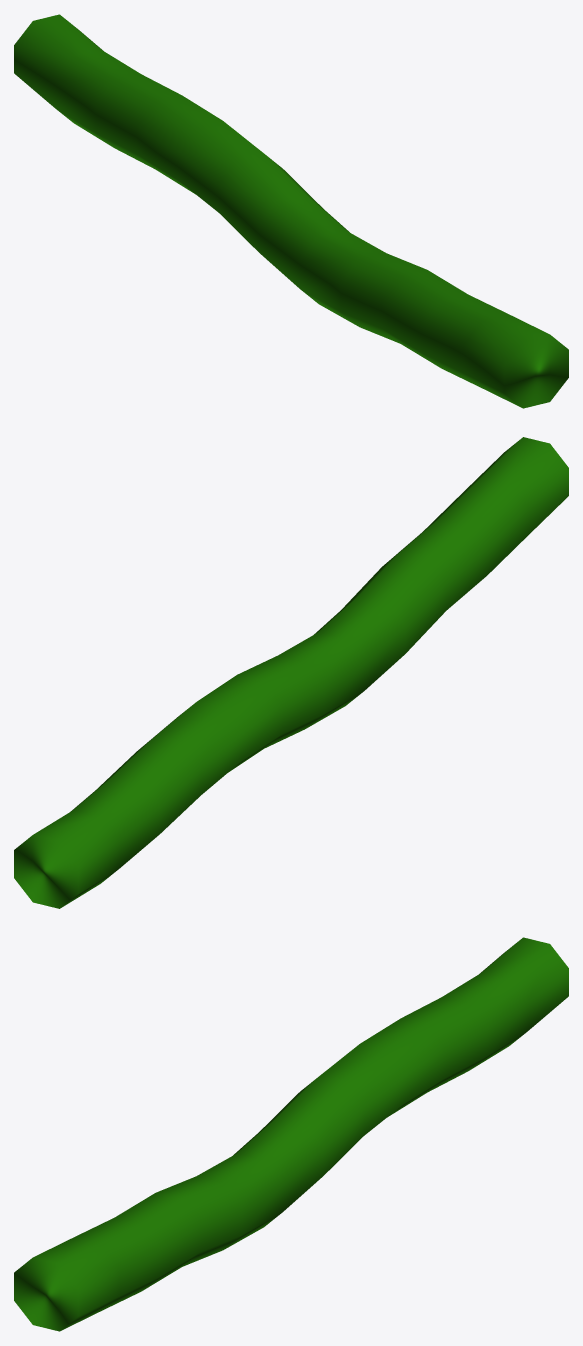
The model's file is cable verde.fbx.
3 views of the same model, one above another, from view 1: azimuth 30°, elevation 25°; view 2: azimuth 150°, elevation 25°; view 3: azimuth 330°, elevation 25° (orthographic).
Parts seen in each view (by area): view 1: Cylinder.001; view 2: Cylinder.001; view 3: Cylinder.001.
Boxes of the visible parts, bbox=[...] form: Cylinder.001: bbox=[14, 14, 568, 408]; Cylinder.001: bbox=[14, 437, 568, 908]; Cylinder.001: bbox=[14, 937, 568, 1331].
Size of the model in its own units: 25.62 by 42.81 by 337.
